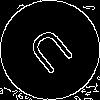U: (25, 25, 82, 84)
